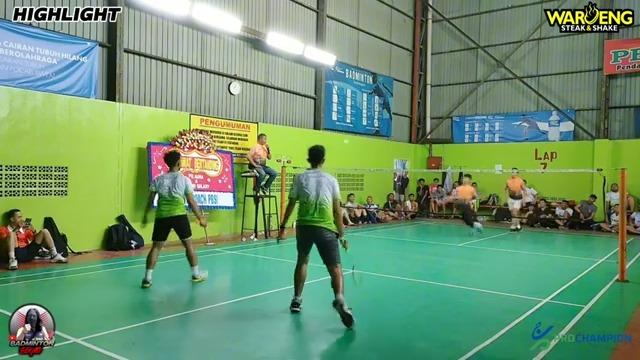Shuttlecock: (340, 134, 354, 148)
